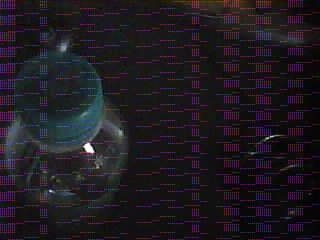plastic: (1, 52, 132, 238)
